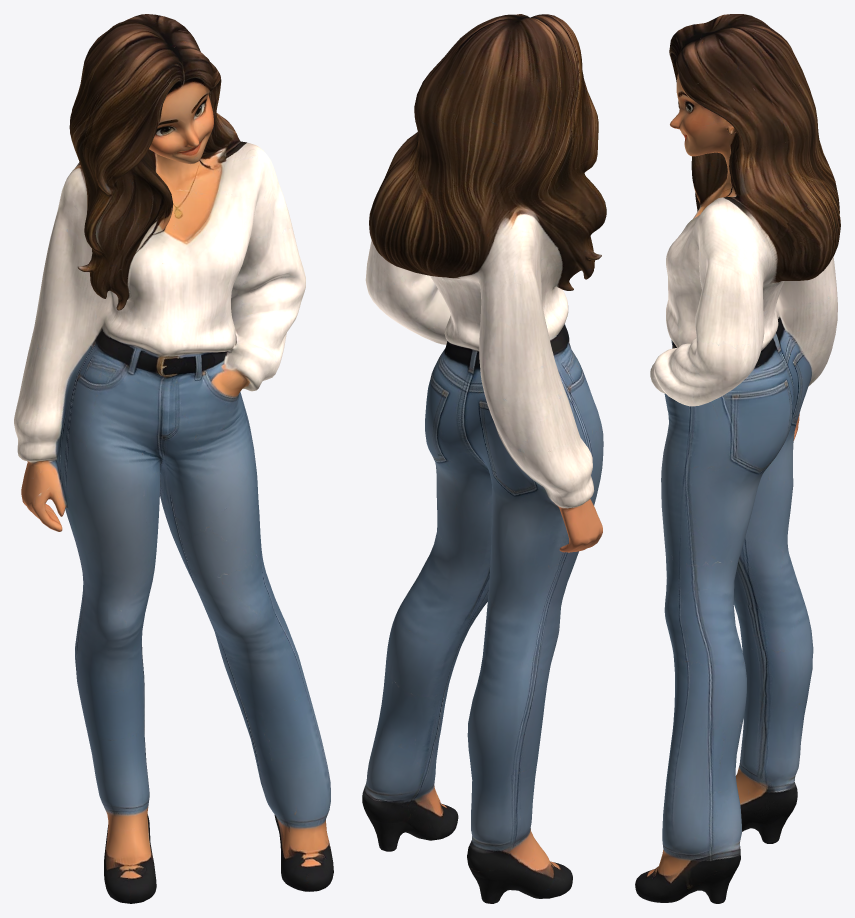
The model's file is casual_chic.glb.
3 views of the same model, side by side, from view 1: azimuth 30°, elevation 25°; view 2: azimuth 150°, elevation 25°; view 3: azimuth 270°, elevation 25° (orthographic). The views are drawn at different scales.
Size of the model in its own units: 0.5976 by 1.9 by 0.4332.
Materials: 1 (1 with a texture image).
